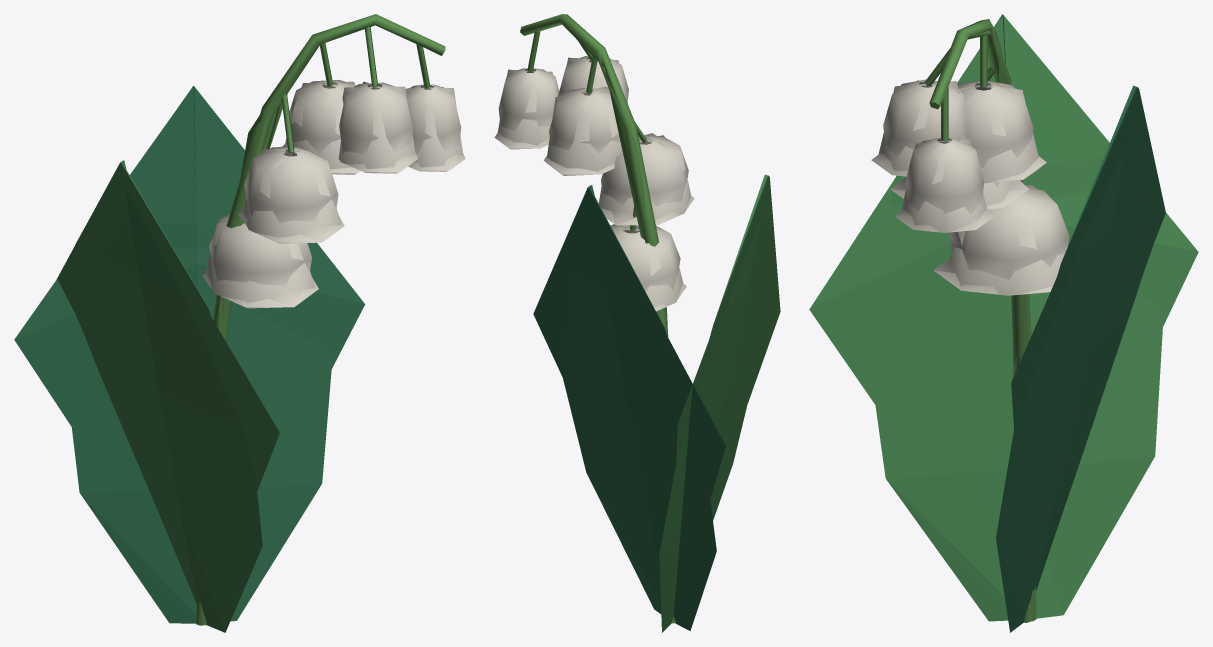
File: lily_valley_a.glb
3 renders of one model, left to right at view 1: azimuth 30°, elevation 25°; view 2: azimuth 150°, elevation 25°; view 3: azimuth 270°, elevation 25°, orthographic. The views are drawn at different scales.
Parts seen in each view (by area): view 1: body_nl, body__far, petal_white_nl, stem; view 2: body_nl, body__far, petal_white_nl, stem; view 3: body_nl, body__far, petal_white_nl, stem.
Boxes of the visible parts, box(x1,y1,x2,y2) form: body_nl: box(72, 86, 332, 632); body__far: box(14, 21, 463, 624); petal_white_nl: box(202, 80, 465, 307); stem: box(196, 14, 445, 625); body_nl: box(563, 174, 769, 632); body__far: box(498, 15, 780, 499); petal_white_nl: box(494, 56, 694, 311); stem: box(520, 14, 675, 623); body_nl: box(875, 14, 1163, 632); body__far: box(809, 14, 1198, 621); petal_white_nl: box(871, 79, 1069, 295); stem: box(928, 19, 1036, 622).
Bounding box in the file's own units: 5.84 × 9.67 × 5.1.
